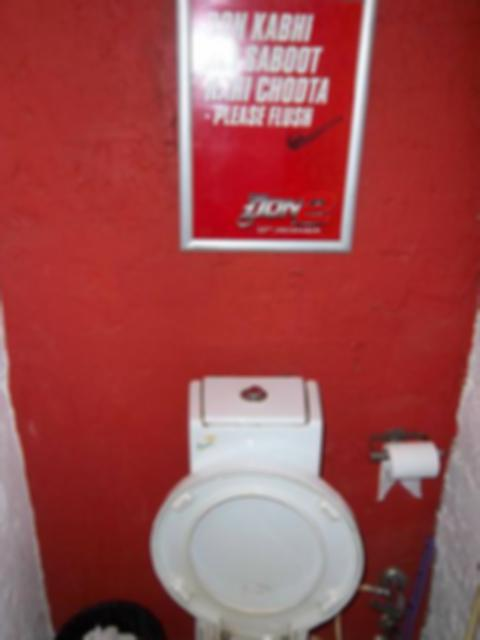Sanitario: (159, 364, 363, 640)
